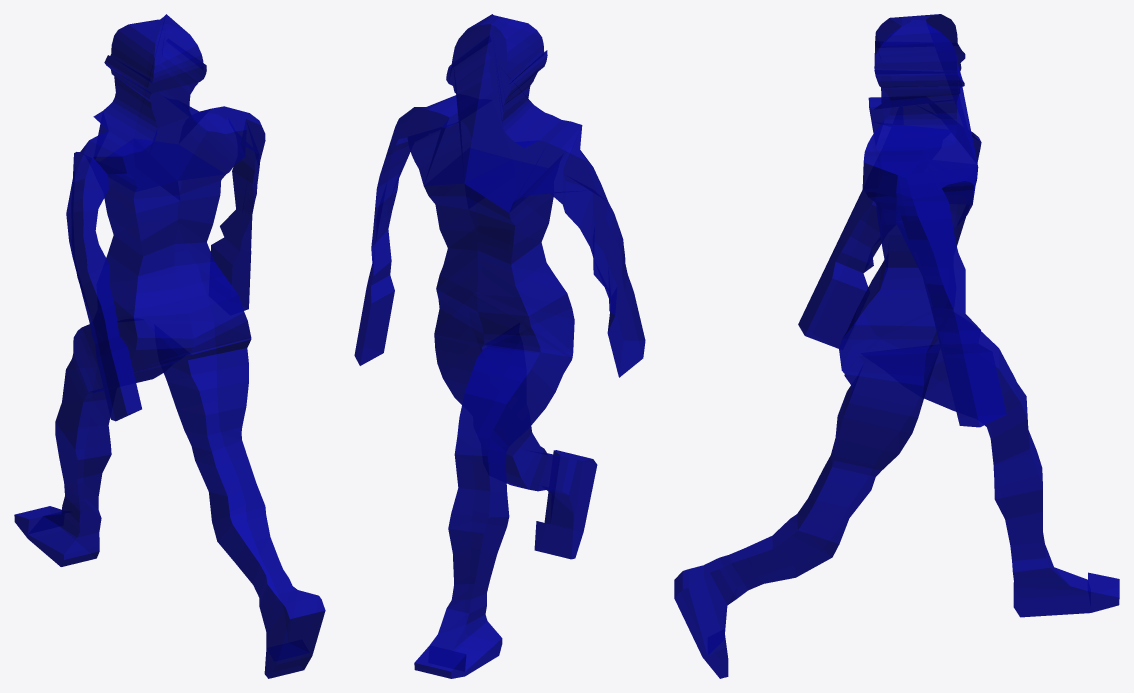
File: woman_000028.obj
3 views of the same model, side by side, from view 1: azimuth 30°, elevation 25°; view 2: azimuth 150°, elevation 25°; view 3: azimuth 270°, elevation 25° (orthographic). The views are drawn at different scales.
Visible parts, largest first — view 1: Cube_Cube.001; view 2: Cube_Cube.001; view 3: Cube_Cube.001.
Part boxes in pixels (<box>): Cube_Cube.001: <box>14,14,325,678</box>; Cube_Cube.001: <box>354,14,645,678</box>; Cube_Cube.001: <box>674,14,1119,678</box>.
Bounding box in the file's own units: 3.62 × 9.73 × 6.2.
